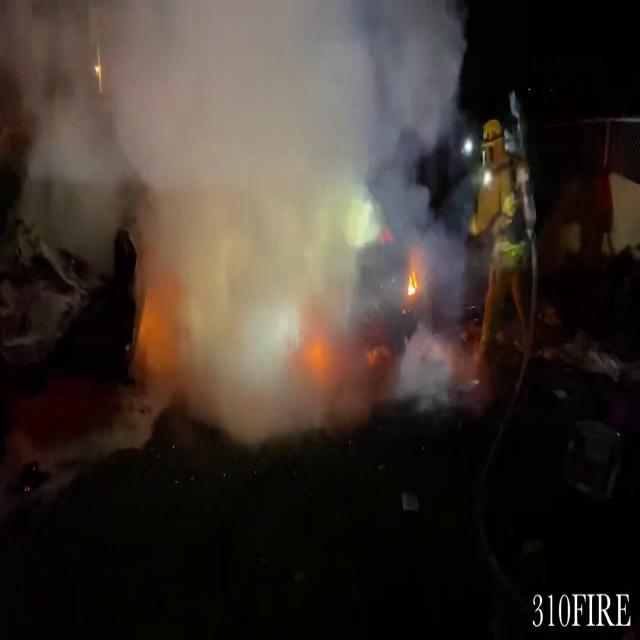Smoke: (1, 0, 471, 440)
